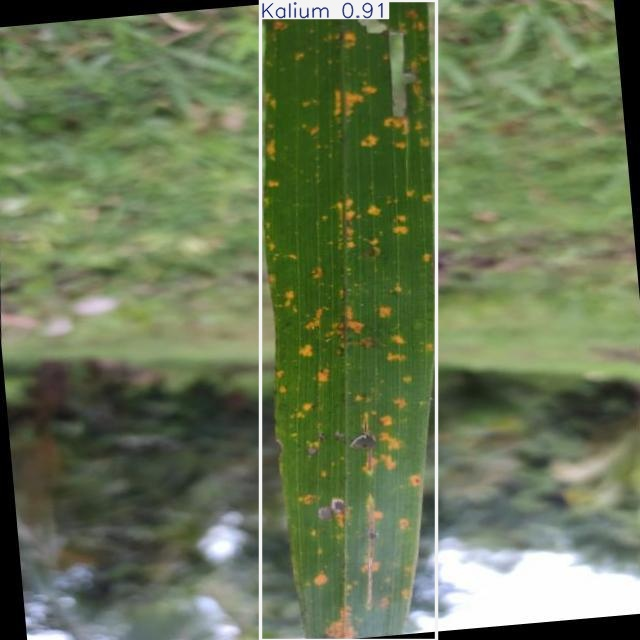Kalium: (261, 0, 437, 640)
